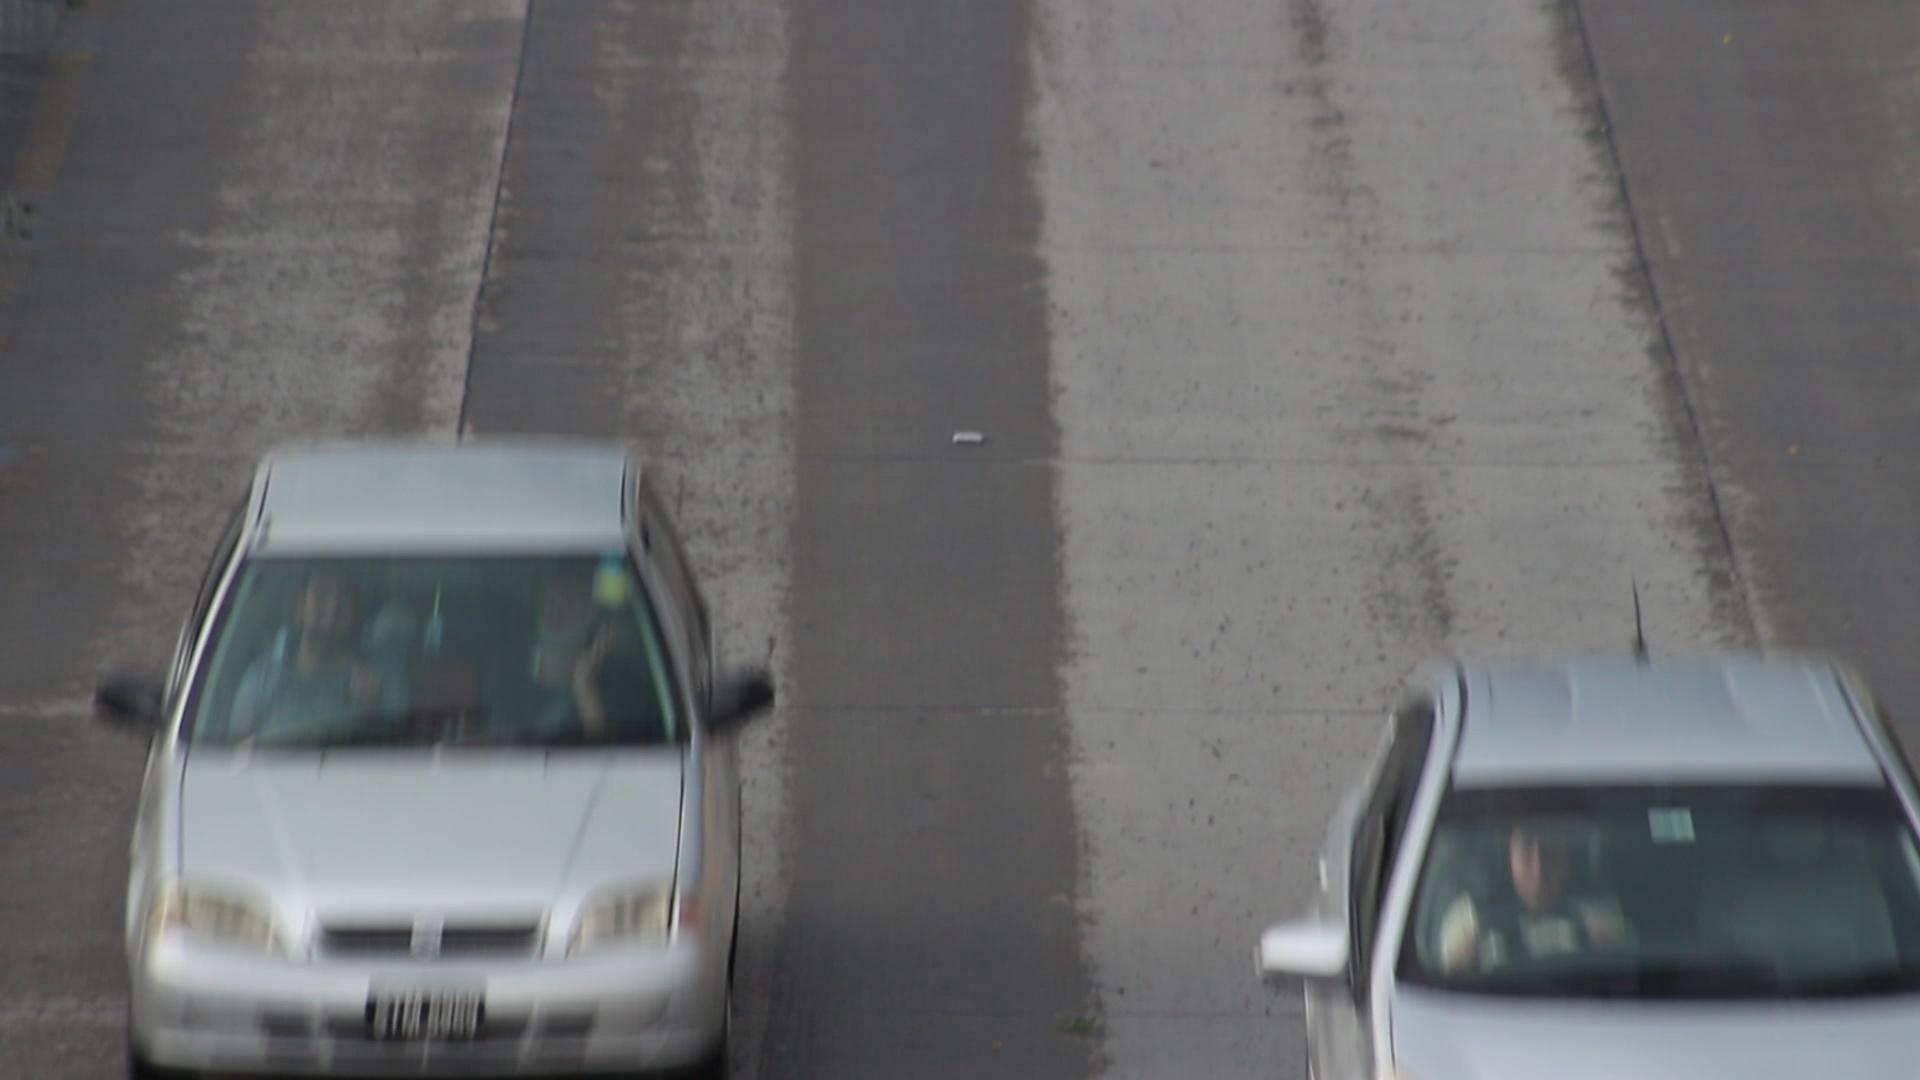windshield: (171, 537, 700, 764)
